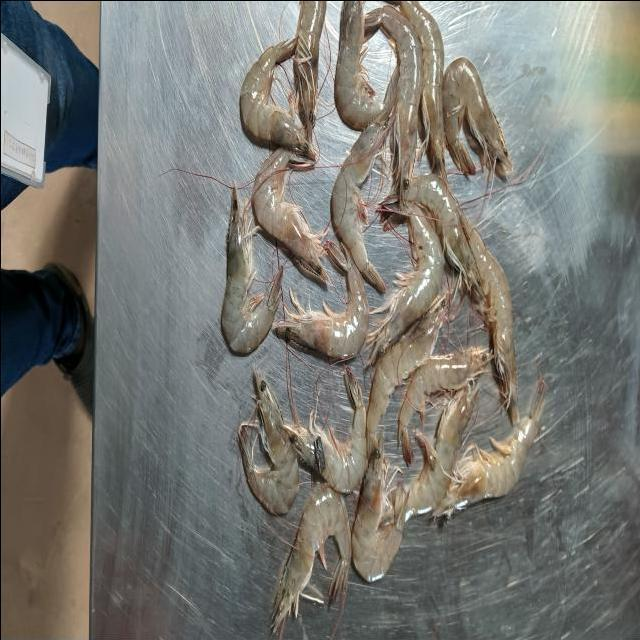shrimp: (432, 379, 545, 516), (456, 204, 519, 425), (365, 297, 446, 458), (394, 379, 479, 529), (368, 204, 444, 365), (271, 483, 350, 633), (405, 174, 485, 317), (364, 4, 421, 201), (396, 348, 491, 465), (275, 241, 369, 359), (385, 0, 445, 179), (251, 148, 329, 283), (284, 367, 366, 494), (220, 186, 281, 354), (330, 122, 389, 292), (239, 38, 315, 162), (238, 367, 299, 516), (441, 58, 512, 182), (334, 0, 398, 131), (351, 438, 401, 582), (292, 0, 325, 144)
